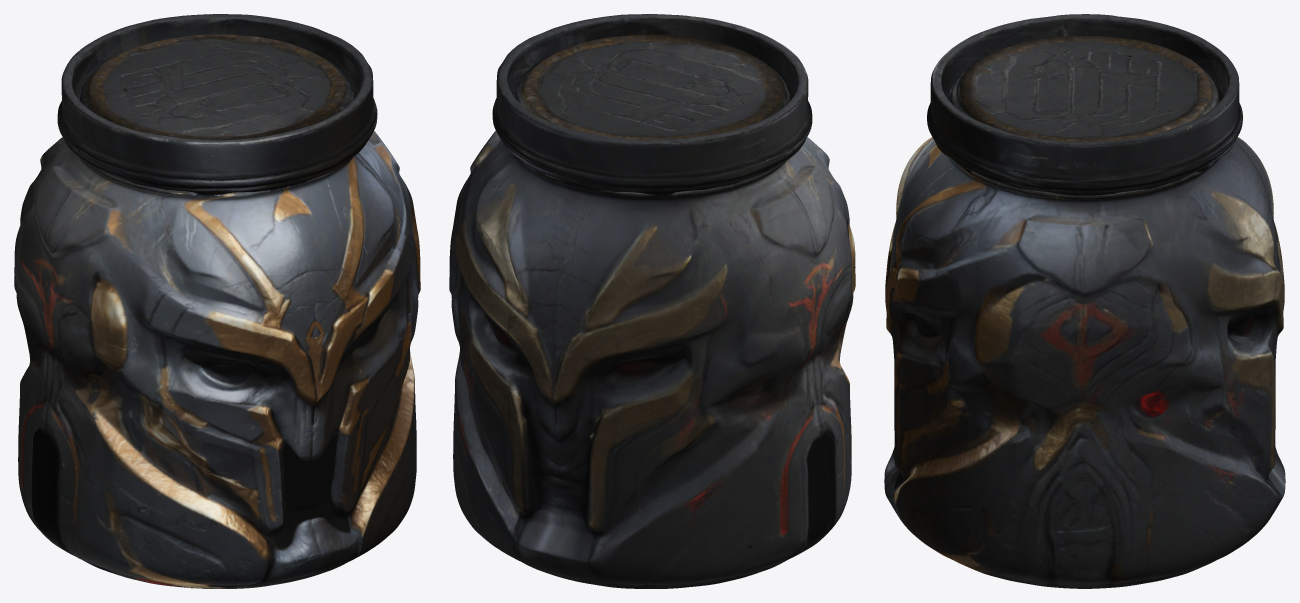
File: case-Ares.glb
3 views of the same model, side by side, from view 1: azimuth 30°, elevation 25°; view 2: azimuth 150°, elevation 25°; view 3: azimuth 270°, elevation 25° (orthographic).
Bounding box in the file's own units: 1.63 × 2 × 1.65.
Materials: 1 (1 with a texture image).
